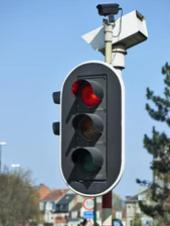red_light: (60, 61, 124, 196)
